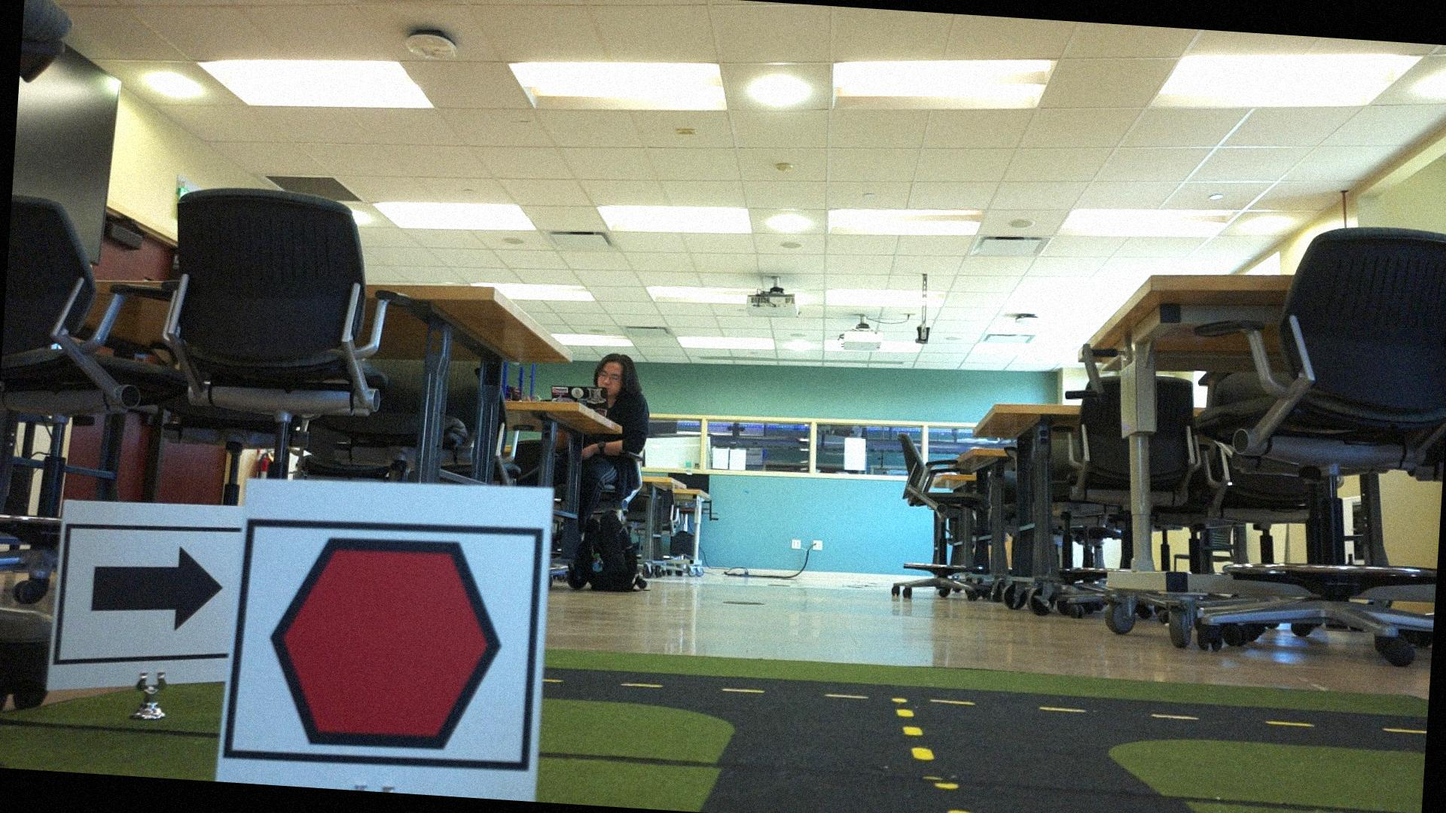stop: (252, 519, 522, 767)
turnright: (61, 531, 239, 656)
yellowline: (894, 707, 990, 812)
